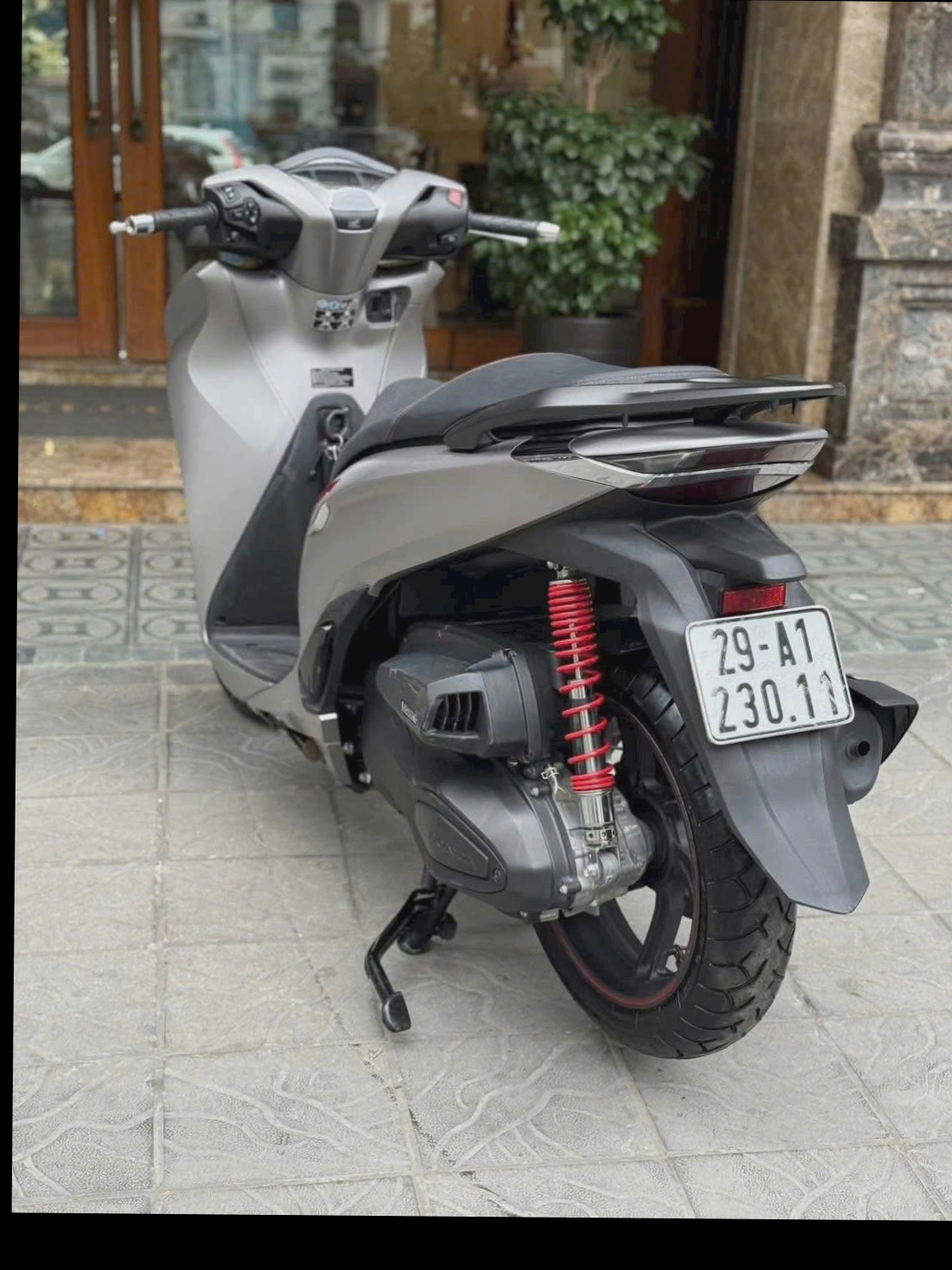Bien-so: (643, 554, 834, 729)
